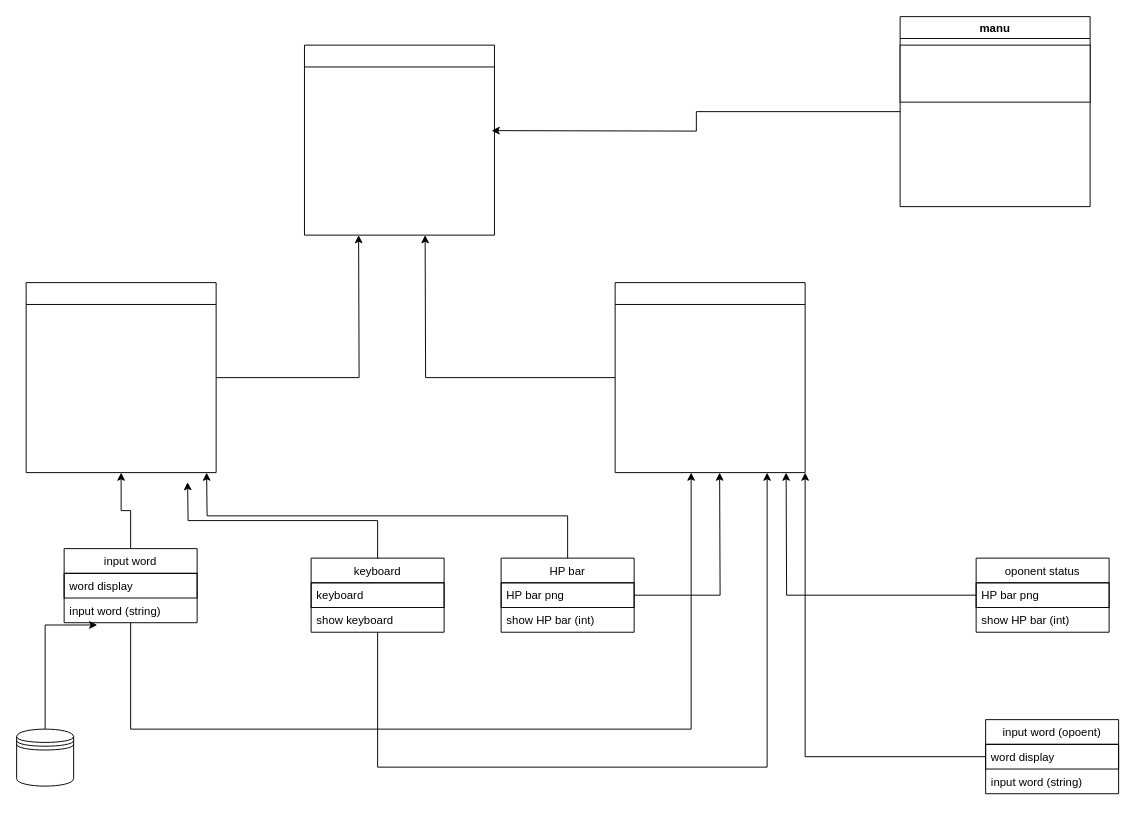
Image size: 1135x813. Some labels were removed from this diagram. The centre of each missing label's shape, as x and y in pixels:
game: [399,139]
multi player: [709,377]
setting paluse leave: [994,73]
single player: [120,377]
word list: [45,757]
